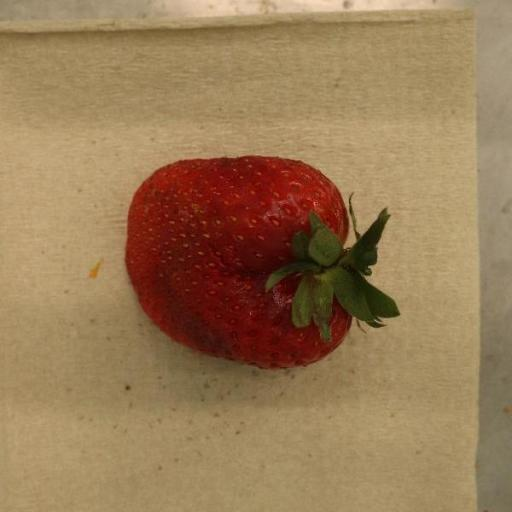Strawberry: (126, 155, 401, 370)
